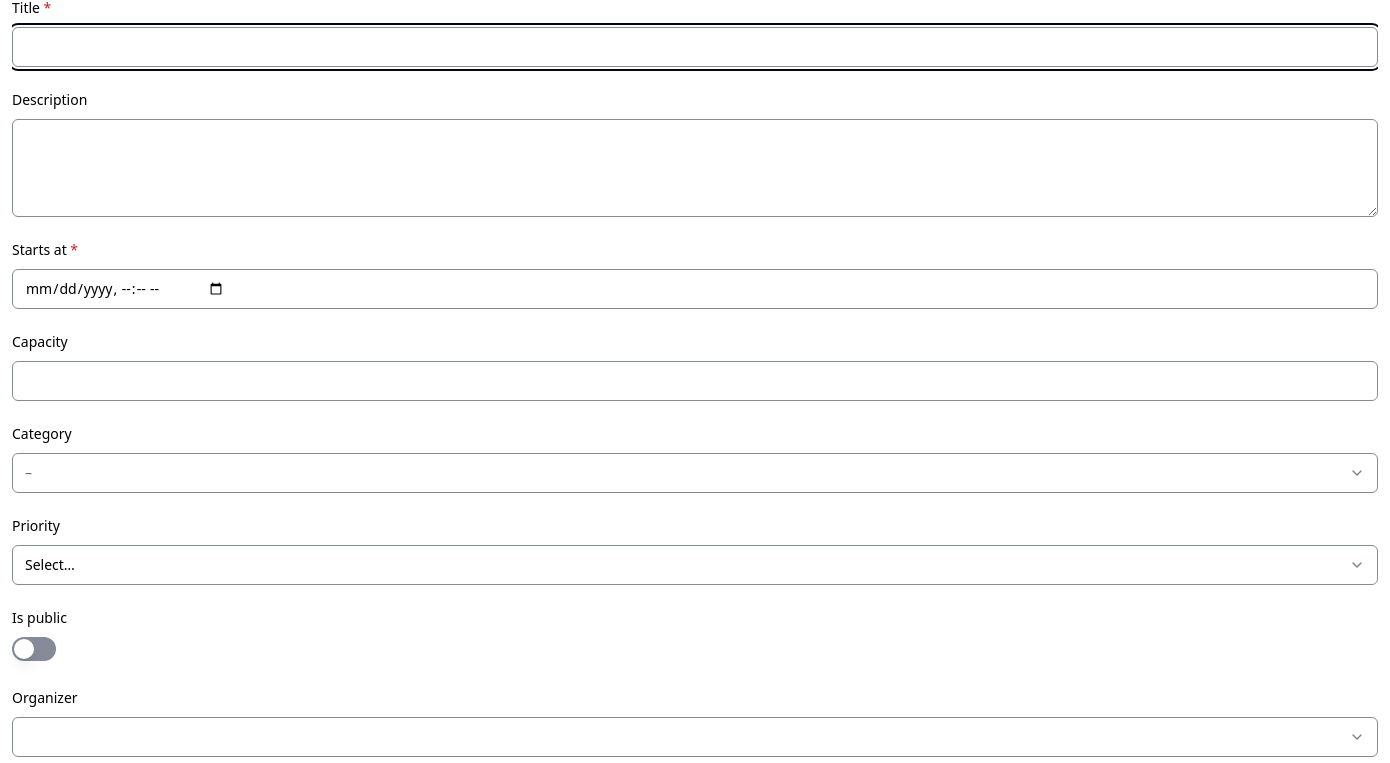
ResourceForm submit: every failure status, and the typed input stays › 401: a banner in plain words, focused; values kept
Type "Spring gala" into the field labelled "Title" at (695, 47), box x1=12 y1=27 x2=1378 y2=67
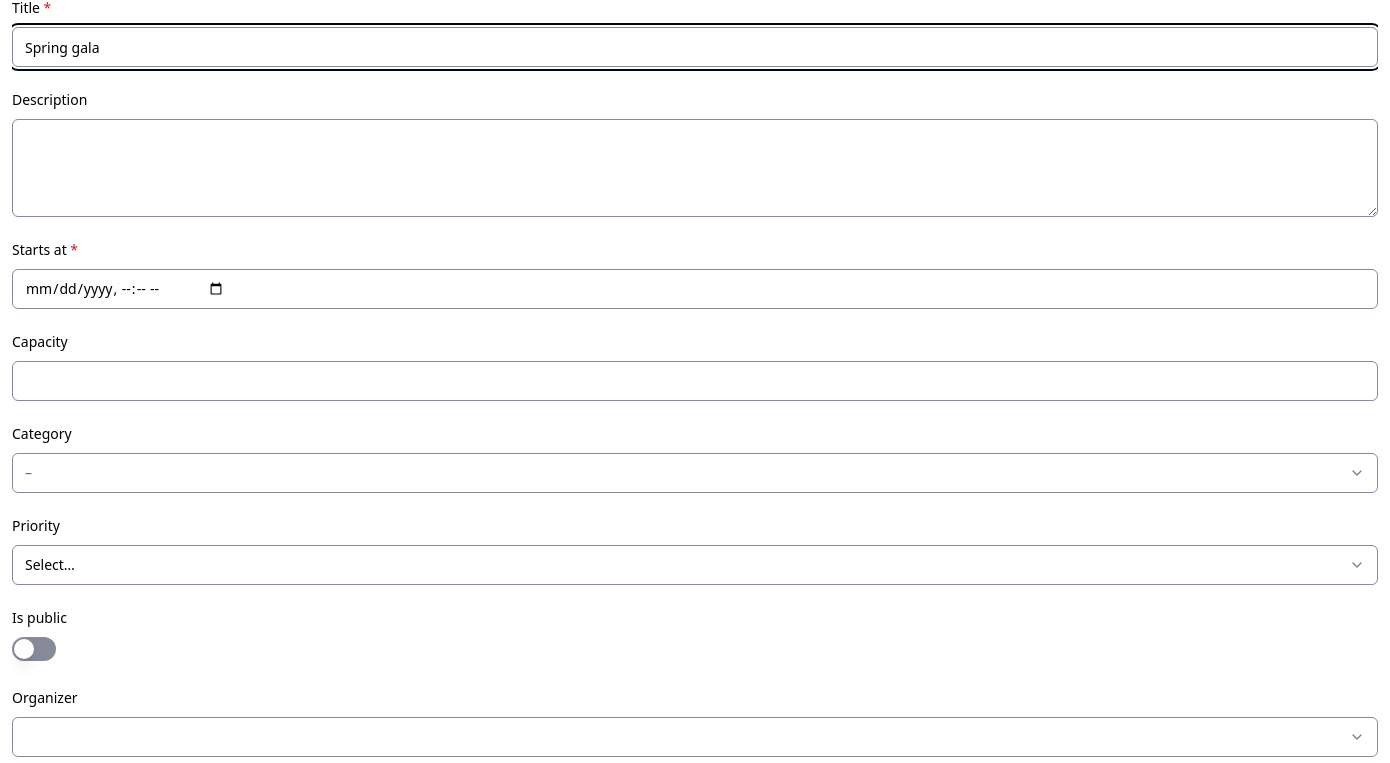
Type "2026-05-01T18:30" into the field labelled "Starts at *" at (695, 289), box x1=12 y1=269 x2=1378 y2=309
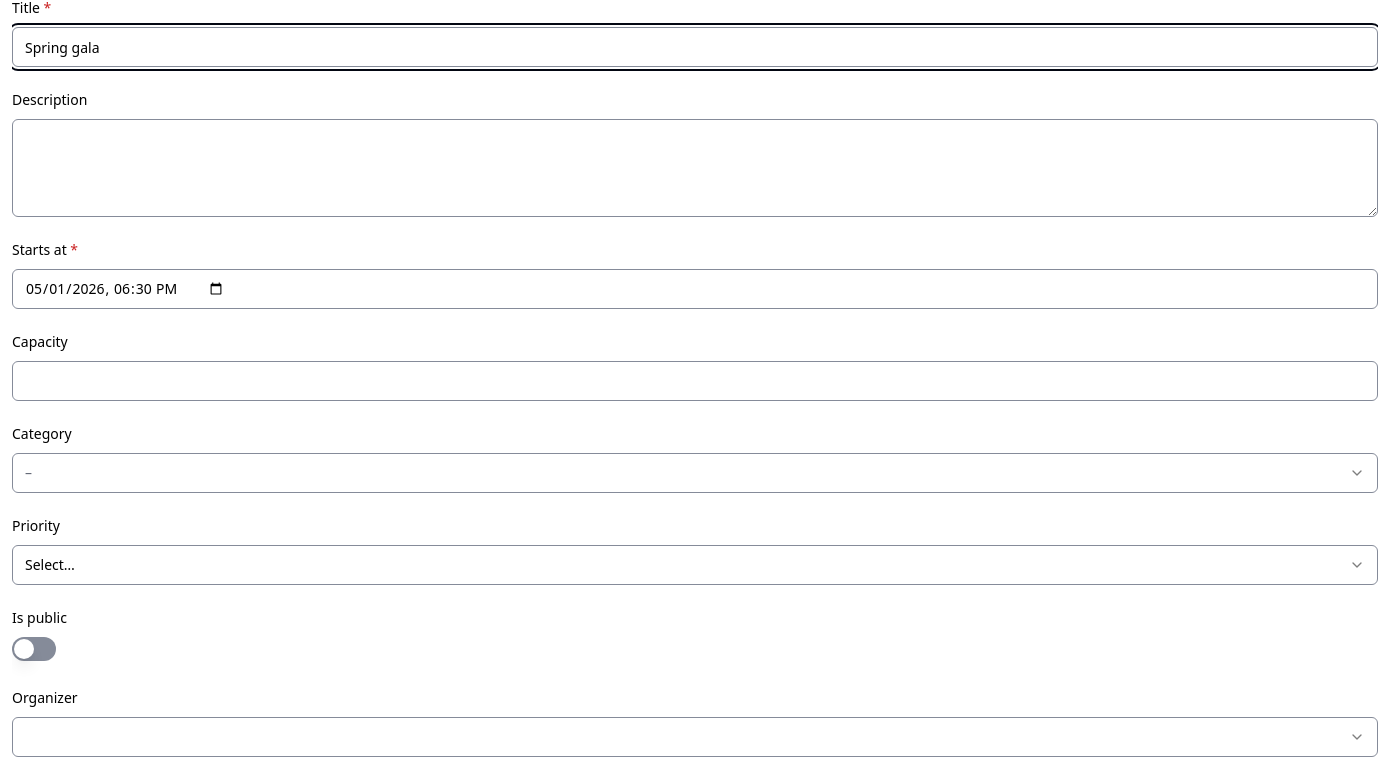
Type "Bring snacks" into the text box labelled "Description" at (695, 168), box x1=12 y1=119 x2=1378 y2=217
(page scrolled)
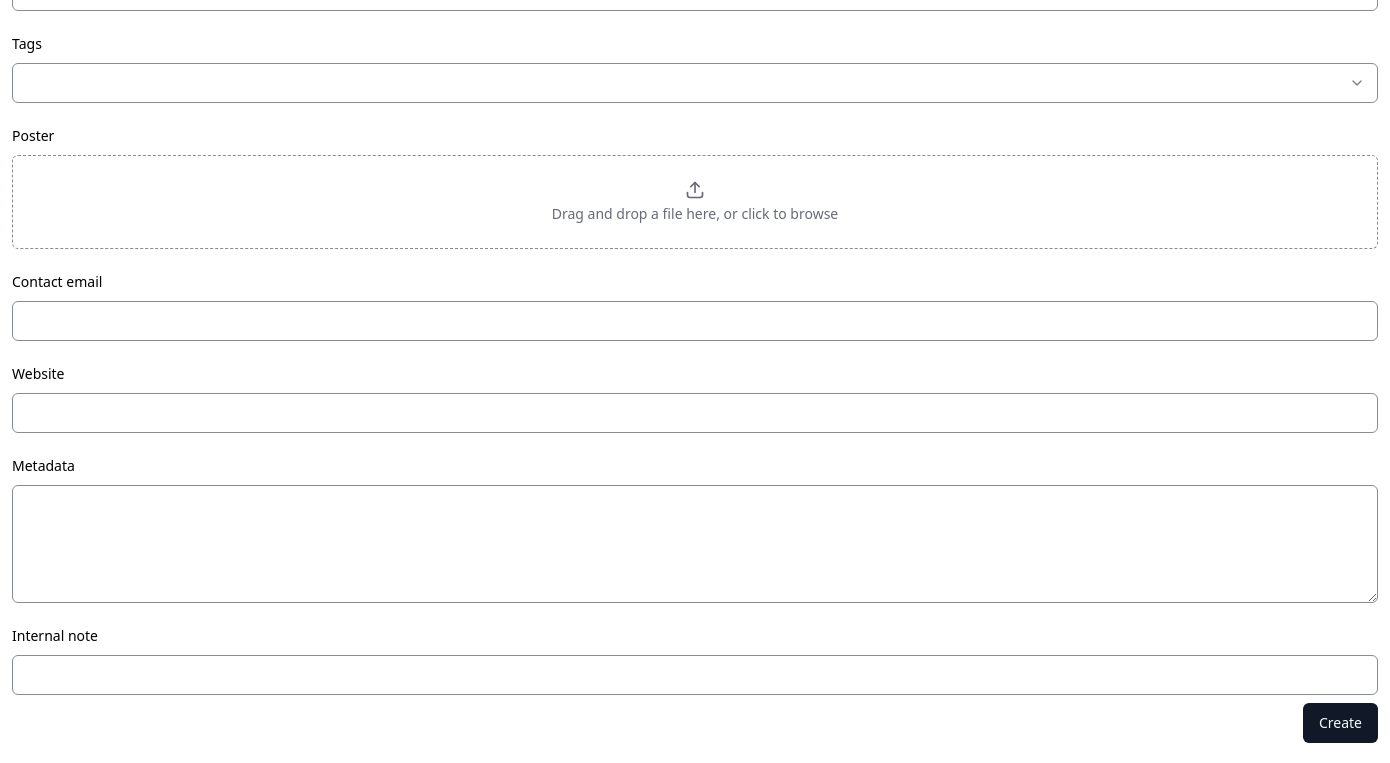
Click the button "Create" at (1340, 723), box x1=1303 y1=703 x2=1378 y2=743
(page scrolled)
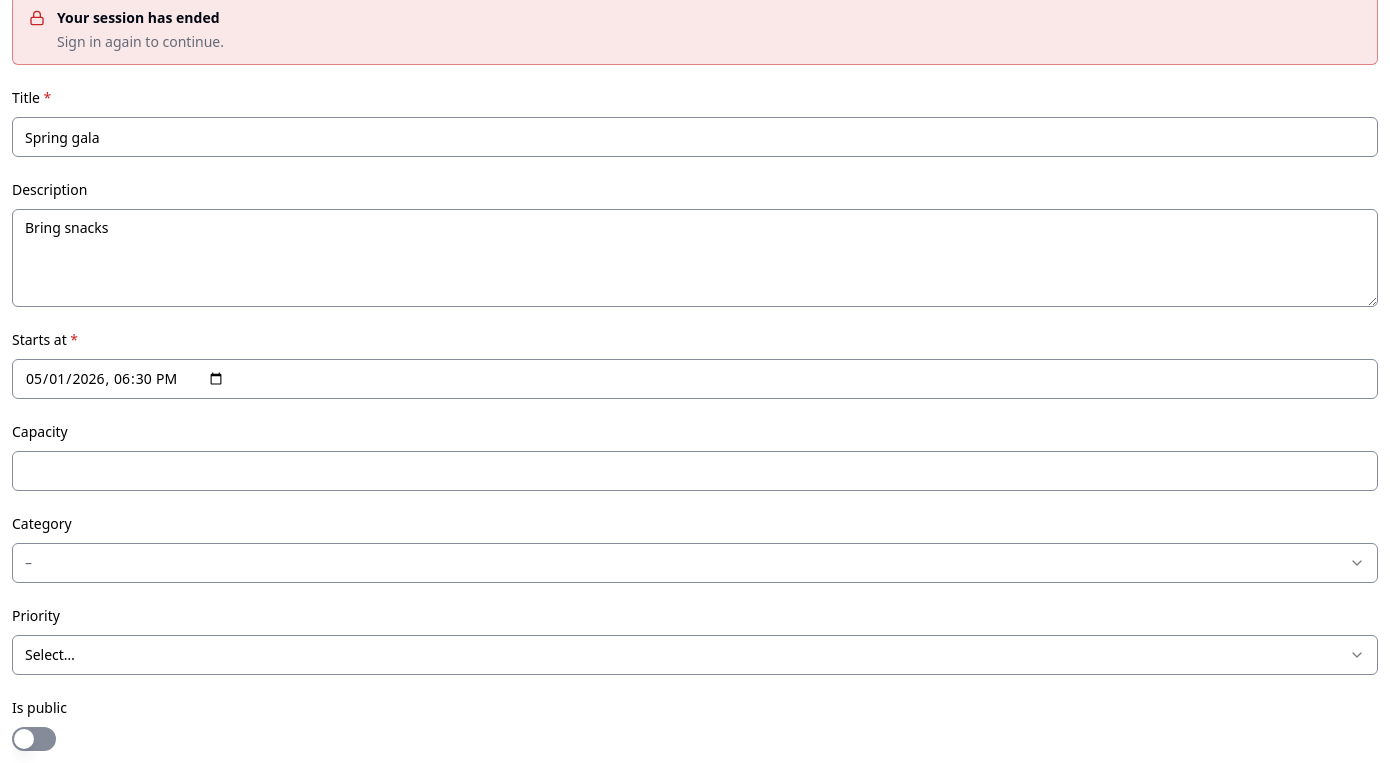
Result: the message shows "Your session has ended" at x1=57 y1=8 x2=220 y2=27
